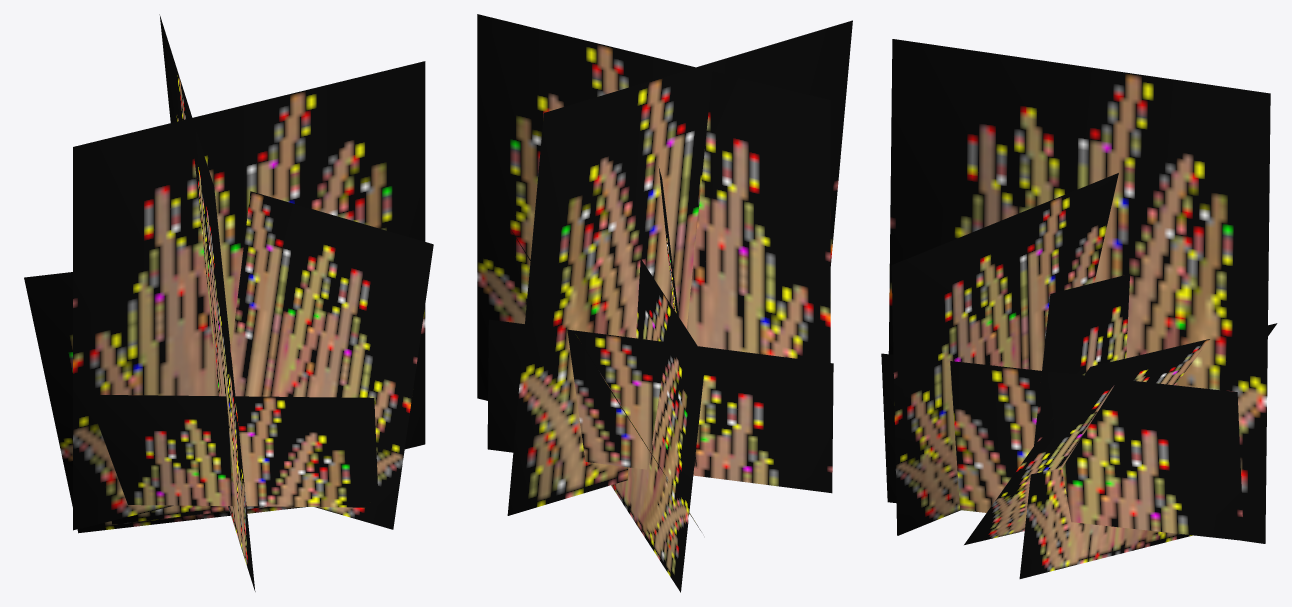
The model's file is P_Weed02.obj.
3 views of the same model, side by side, from view 1: azimuth 30°, elevation 25°; view 2: azimuth 150°, elevation 25°; view 3: azimuth 270°, elevation 25° (orthographic). The views are drawn at different scales.
Bounding box in the file's own units: 1.62 × 1.9 × 1.39.
